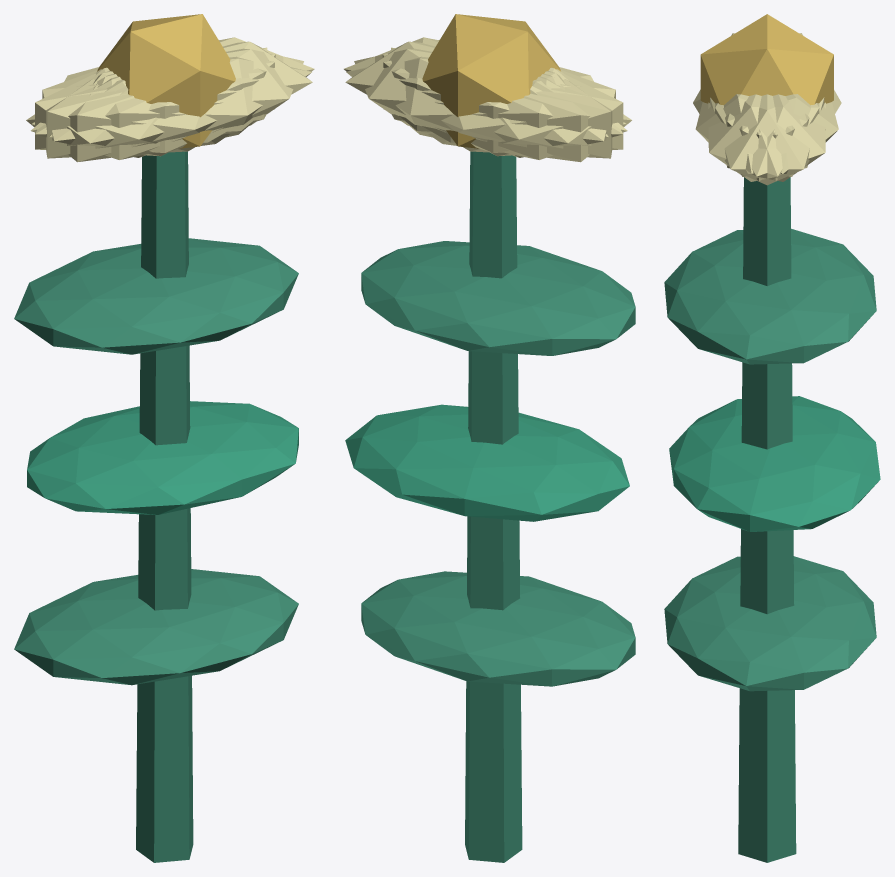
The model's file is dillenia-suffruticosa.glb.
The picture shows the model from 3 angles, left to right: view 1: azimuth 30°, elevation 25°; view 2: azimuth 150°, elevation 25°; view 3: azimuth 270°, elevation 25°; orthographic projection.
Visible parts, largest first — view 1: stem, leaf2, leaf0, leaf1, center, petal1, petal6, petal2, petal5, petal7, petal0, petal4 (+2 smaller); view 2: stem, leaf1, leaf2, leaf0, center, petal8, petal3, petal7, petal4, petal2, petal0, petal5 (+2 smaller); view 3: stem, leaf2, leaf1, leaf0, center, petal0, petal5, petal4, petal1, petal8.
Boxes of the visible parts, box(x1,y1,x2,y2) form: stem: box(136, 151, 193, 862); leaf2: box(14, 238, 298, 354); leaf0: box(14, 569, 298, 685); leaf1: box(27, 401, 298, 514); center: box(97, 14, 235, 148); petal1: box(30, 56, 311, 159); petal6: box(26, 69, 229, 162); petal2: box(46, 47, 267, 158); petal5: box(49, 48, 303, 152); petal7: box(35, 53, 275, 156); petal0: box(97, 41, 312, 142); petal4: box(32, 37, 314, 134); stem: box(465, 151, 522, 862); leaf1: box(345, 404, 629, 521); leaf2: box(361, 241, 635, 355); leaf0: box(361, 571, 635, 686); center: box(422, 14, 560, 148); petal8: box(346, 56, 627, 159); petal3: box(428, 69, 631, 162); petal7: box(391, 47, 612, 158); petal4: box(354, 48, 608, 152); petal2: box(382, 53, 623, 156); petal0: box(345, 41, 561, 143); petal5: box(344, 37, 626, 134); stem: box(738, 177, 796, 862); leaf2: box(664, 228, 876, 364); leaf1: box(669, 396, 880, 531); leaf0: box(664, 556, 876, 691); center: box(700, 14, 833, 105); petal0: box(710, 94, 824, 185); petal5: box(708, 94, 819, 181); petal4: box(715, 94, 825, 181); petal1: box(695, 94, 809, 173); petal8: box(725, 94, 838, 173).
Size of the model in its own units: 0.1476 by 0.4147 by 0.0993.
